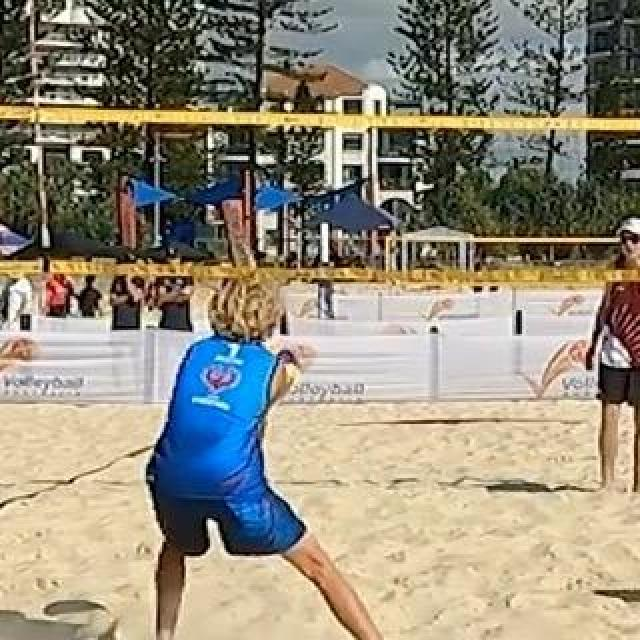volleyball: (246, 342, 300, 394)
